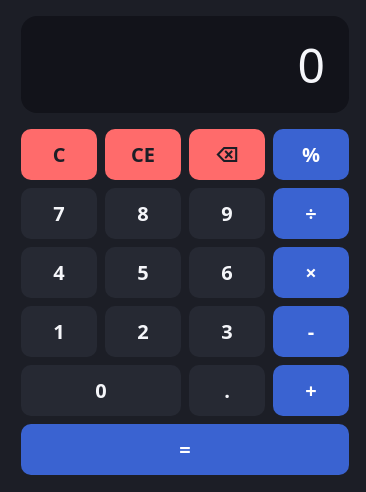
App — correcting mistakes (User Story 2) › deletes the last digit with the delete-last-digit button
Click the button "1".
click(59, 332)  # box [21,306,97,357]
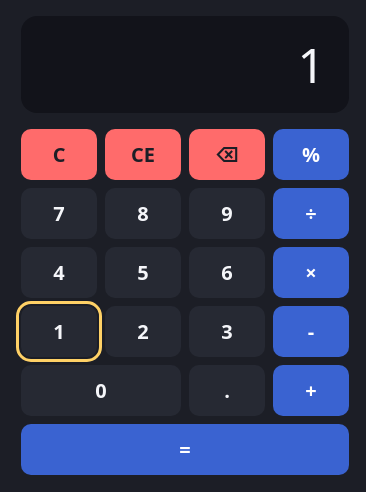
Click the button "2".
click(143, 332)  # box [105,306,181,357]
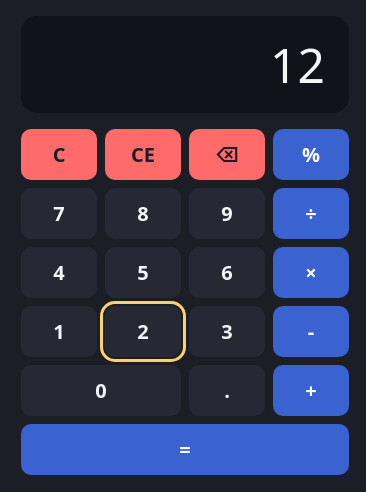
Click the button "3".
click(227, 332)  # box [189,306,265,357]
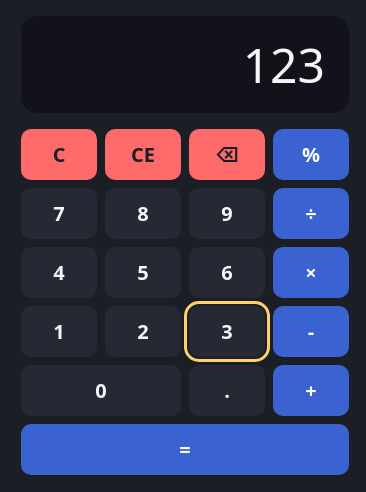
Click the button named "Delete last digit".
click(227, 154)  # box [189,129,265,180]
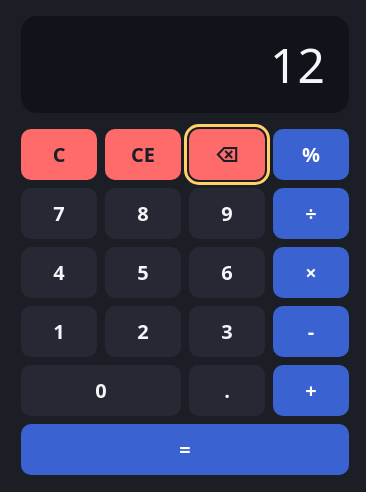
Check: the message named "Calculator display" reads "12", box [270,32,325,97]
